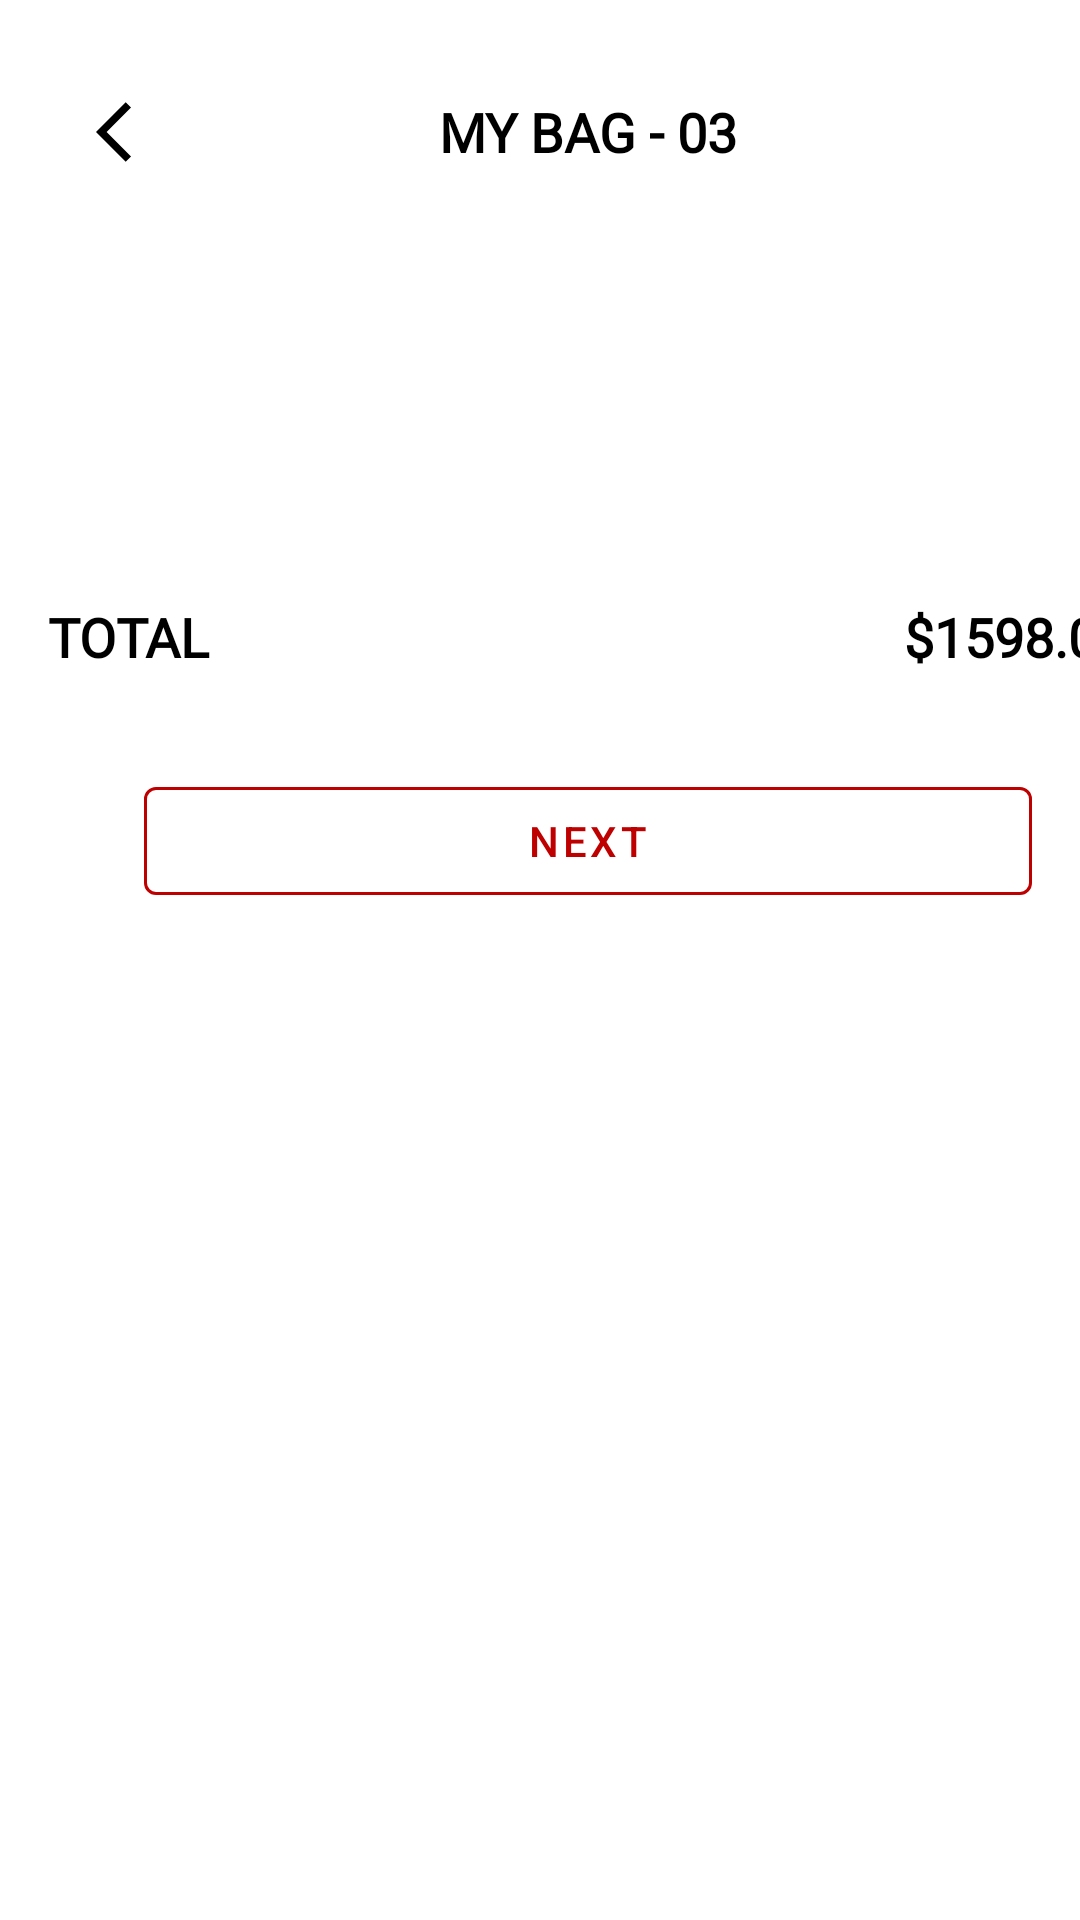

Locate icon controls on the screen. Image size 1080px×1920px, boxes as (left=x1, top=y1, right=x2, bottom=y2).
Back: (left=96, top=102, right=131, bottom=162)
